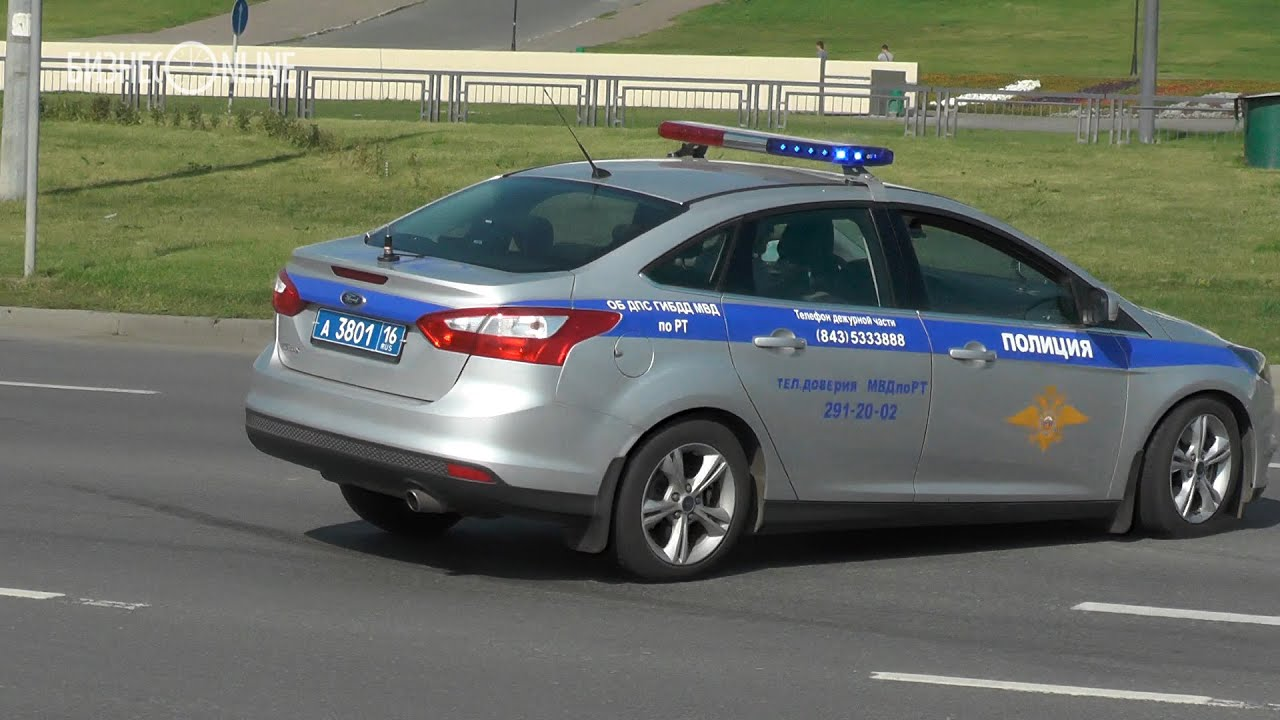special: (232, 117, 1267, 580)
